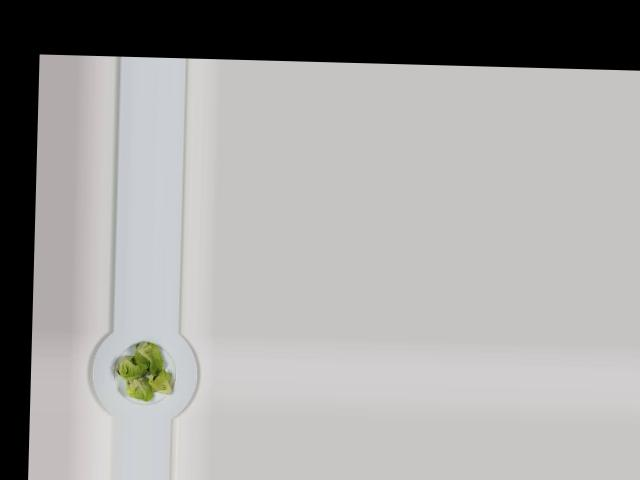lettuce: (113, 335, 175, 401)
